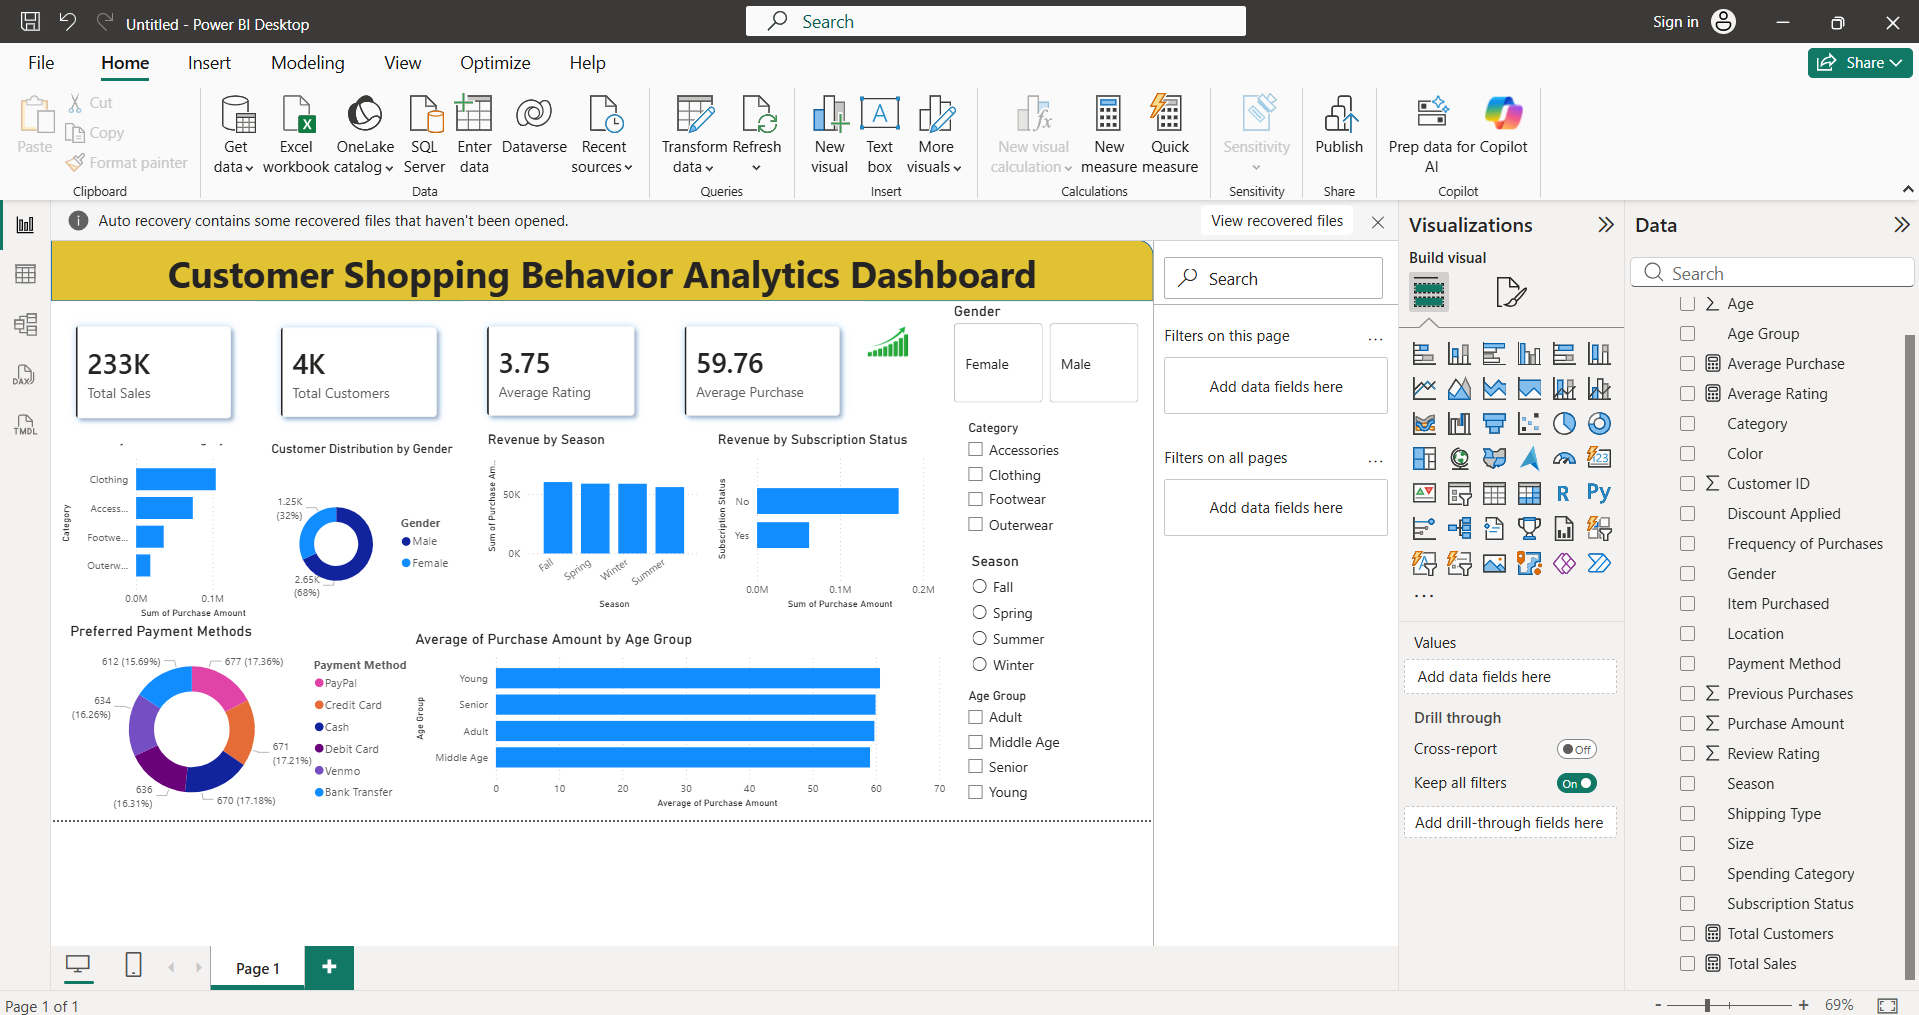

Layout of this report page (visuals, bound fields, positions):
{"tool":"powerbi","page":{"name":"Page 1","canvas":[1280,720],"ordinal":0},"visuals":[{"type":"shape","box":[0,46.5,1280.3,71.1],"z":0},{"type":"textbox","box":[0,50.8,1280.3,85.6],"z":1000},{"type":"clusteredBarChart","title":"Revenue by Product Category","fields":{"Category":["cleaned_customer_data.Category"],"Y":["Sum(cleaned_customer_data.Purchase Amount)"]},"box":[7.3,270,243.9,222.1],"z":2000},{"type":"cardVisual","fields":{"Data":["cleaned_customer_data.Total Sales"]},"box":[0,117.6,251.1,152.4],"z":3000},{"type":"cardVisual","fields":{"Data":["cleaned_customer_data.Total Customers"]},"box":[251.1,119,254,149.5],"z":4000},{"type":"cardVisual","fields":{"Data":["cleaned_customer_data.Average Purchase"]},"box":[753.4,119,254,151],"z":5000},{"type":"cardVisual","fields":{"Data":["cleaned_customer_data.Average Rating"]},"box":[505.2,119,251.1,151],"z":6000},{"type":"pieChart","title":"Customer Distribution by Gender","fields":{"Category":["cleaned_customer_data.Gender"],"Y":["CountNonNull(cleaned_customer_data.Customer ID)"]},"box":[268.5,275.8,222.1,216.3],"z":7000},{"type":"clusteredColumnChart","title":"Revenue by Season","fields":{"Category":["cleaned_customer_data.Season"],"Y":["Sum(cleaned_customer_data.Purchase Amount)"]},"box":[505.2,274.3,256.9,217.7],"z":8000},{"type":"clusteredBarChart","title":"Revenue by Subscription Status","fields":{"Category":["cleaned_customer_data.Subscription Status"],"Y":["Sum(cleaned_customer_data.Purchase Amount)"]},"box":[770.8,274.3,262.7,217.7],"z":9000},{"type":"donutChart","title":"Preferred Payment Methods","fields":{"Category":["cleaned_customer_data.Payment Method"],"Y":["CountNonNull(cleaned_customer_data.Customer ID)"]},"box":[7.3,502.2,409.3,210.5],"z":10000},{"type":"clusteredBarChart","fields":{"Category":["cleaned_customer_data.Age Group"],"Y":["Avg(cleaned_customer_data.Purchase Amount)"]},"box":[426.8,502.2,606.8,210.5],"z":11000},{"type":"advancedSlicerVisual","fields":{"Values":["cleaned_customer_data.Gender"]},"box":[1053.8,119,216.3,113.2],"z":12000},{"type":"slicer","fields":{"Values":["cleaned_customer_data.Category"]},"box":[1053.8,242.4,216.3,153.9],"z":13000},{"type":"listSlicer","fields":{"Values":["cleaned_customer_data.Season"]},"box":[1052.4,405,216.3,152.4],"z":14000},{"type":"slicer","fields":{"Values":["cleaned_customer_data.Age Group"]},"box":[1052.4,566.1,216.3,146.6],"z":15000},{"type":"image","box":[651.8,151,53.7,39.2],"z":16000},{"type":"image","box":[156.8,151,43.5,39.2],"z":17000},{"type":"image","box":[901.4,151,62.4,39.2],"z":18000},{"type":"image","box":[409.3,151,49.4,43.5],"z":19000}]}

Visuals, with their boxes in screenshot pixels (x1, y1, x2, y2):
shape: region(140, 35, 1918, 133)
textbox: region(140, 41, 1918, 160)
"Revenue by Product Category" clusteredBarChart: region(150, 345, 489, 654)
cardVisual - cleaned_customer_data.Total Sales: region(140, 133, 489, 345)
cardVisual - cleaned_customer_data.Total Customers: region(489, 135, 842, 343)
cardVisual - cleaned_customer_data.Average Purchase: region(1187, 135, 1540, 345)
cardVisual - cleaned_customer_data.Average Rating: region(842, 135, 1191, 345)
"Customer Distribution by Gender" pieChart: region(513, 353, 822, 654)
"Revenue by Season" clusteredColumnChart: region(842, 351, 1199, 654)
"Revenue by Subscription Status" clusteredBarChart: region(1211, 351, 1576, 654)
"Preferred Payment Methods" donutChart: region(150, 668, 719, 960)
clusteredBarChart - cleaned_customer_data.Age Group x Avg(cleaned_customer_data.Purchase Amount): region(733, 668, 1576, 960)
advancedSlicerVisual - cleaned_customer_data.Gender: region(1604, 135, 1905, 293)
slicer - cleaned_customer_data.Category: region(1604, 307, 1905, 521)
listSlicer - cleaned_customer_data.Season: region(1602, 533, 1903, 745)
slicer - cleaned_customer_data.Age Group: region(1602, 757, 1903, 960)
image: region(1046, 180, 1120, 234)
image: region(358, 180, 418, 234)
image: region(1392, 180, 1479, 234)
image: region(709, 180, 777, 240)
